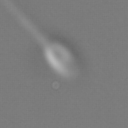normal: (1, 1, 48, 47)
